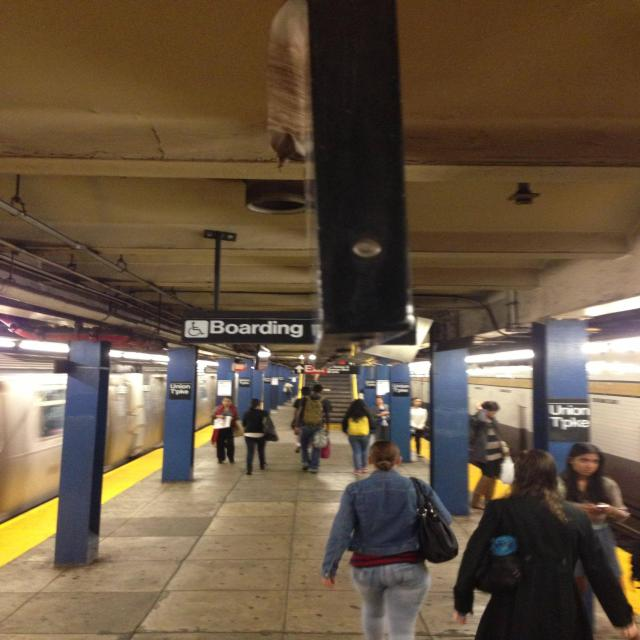body: (444, 445, 640, 640), (315, 437, 463, 640), (557, 442, 632, 624), (468, 400, 510, 510), (293, 382, 334, 474), (241, 398, 271, 476), (342, 398, 372, 475), (288, 386, 321, 456), (211, 396, 240, 464), (279, 367, 323, 403), (409, 397, 429, 458), (369, 396, 392, 440)
